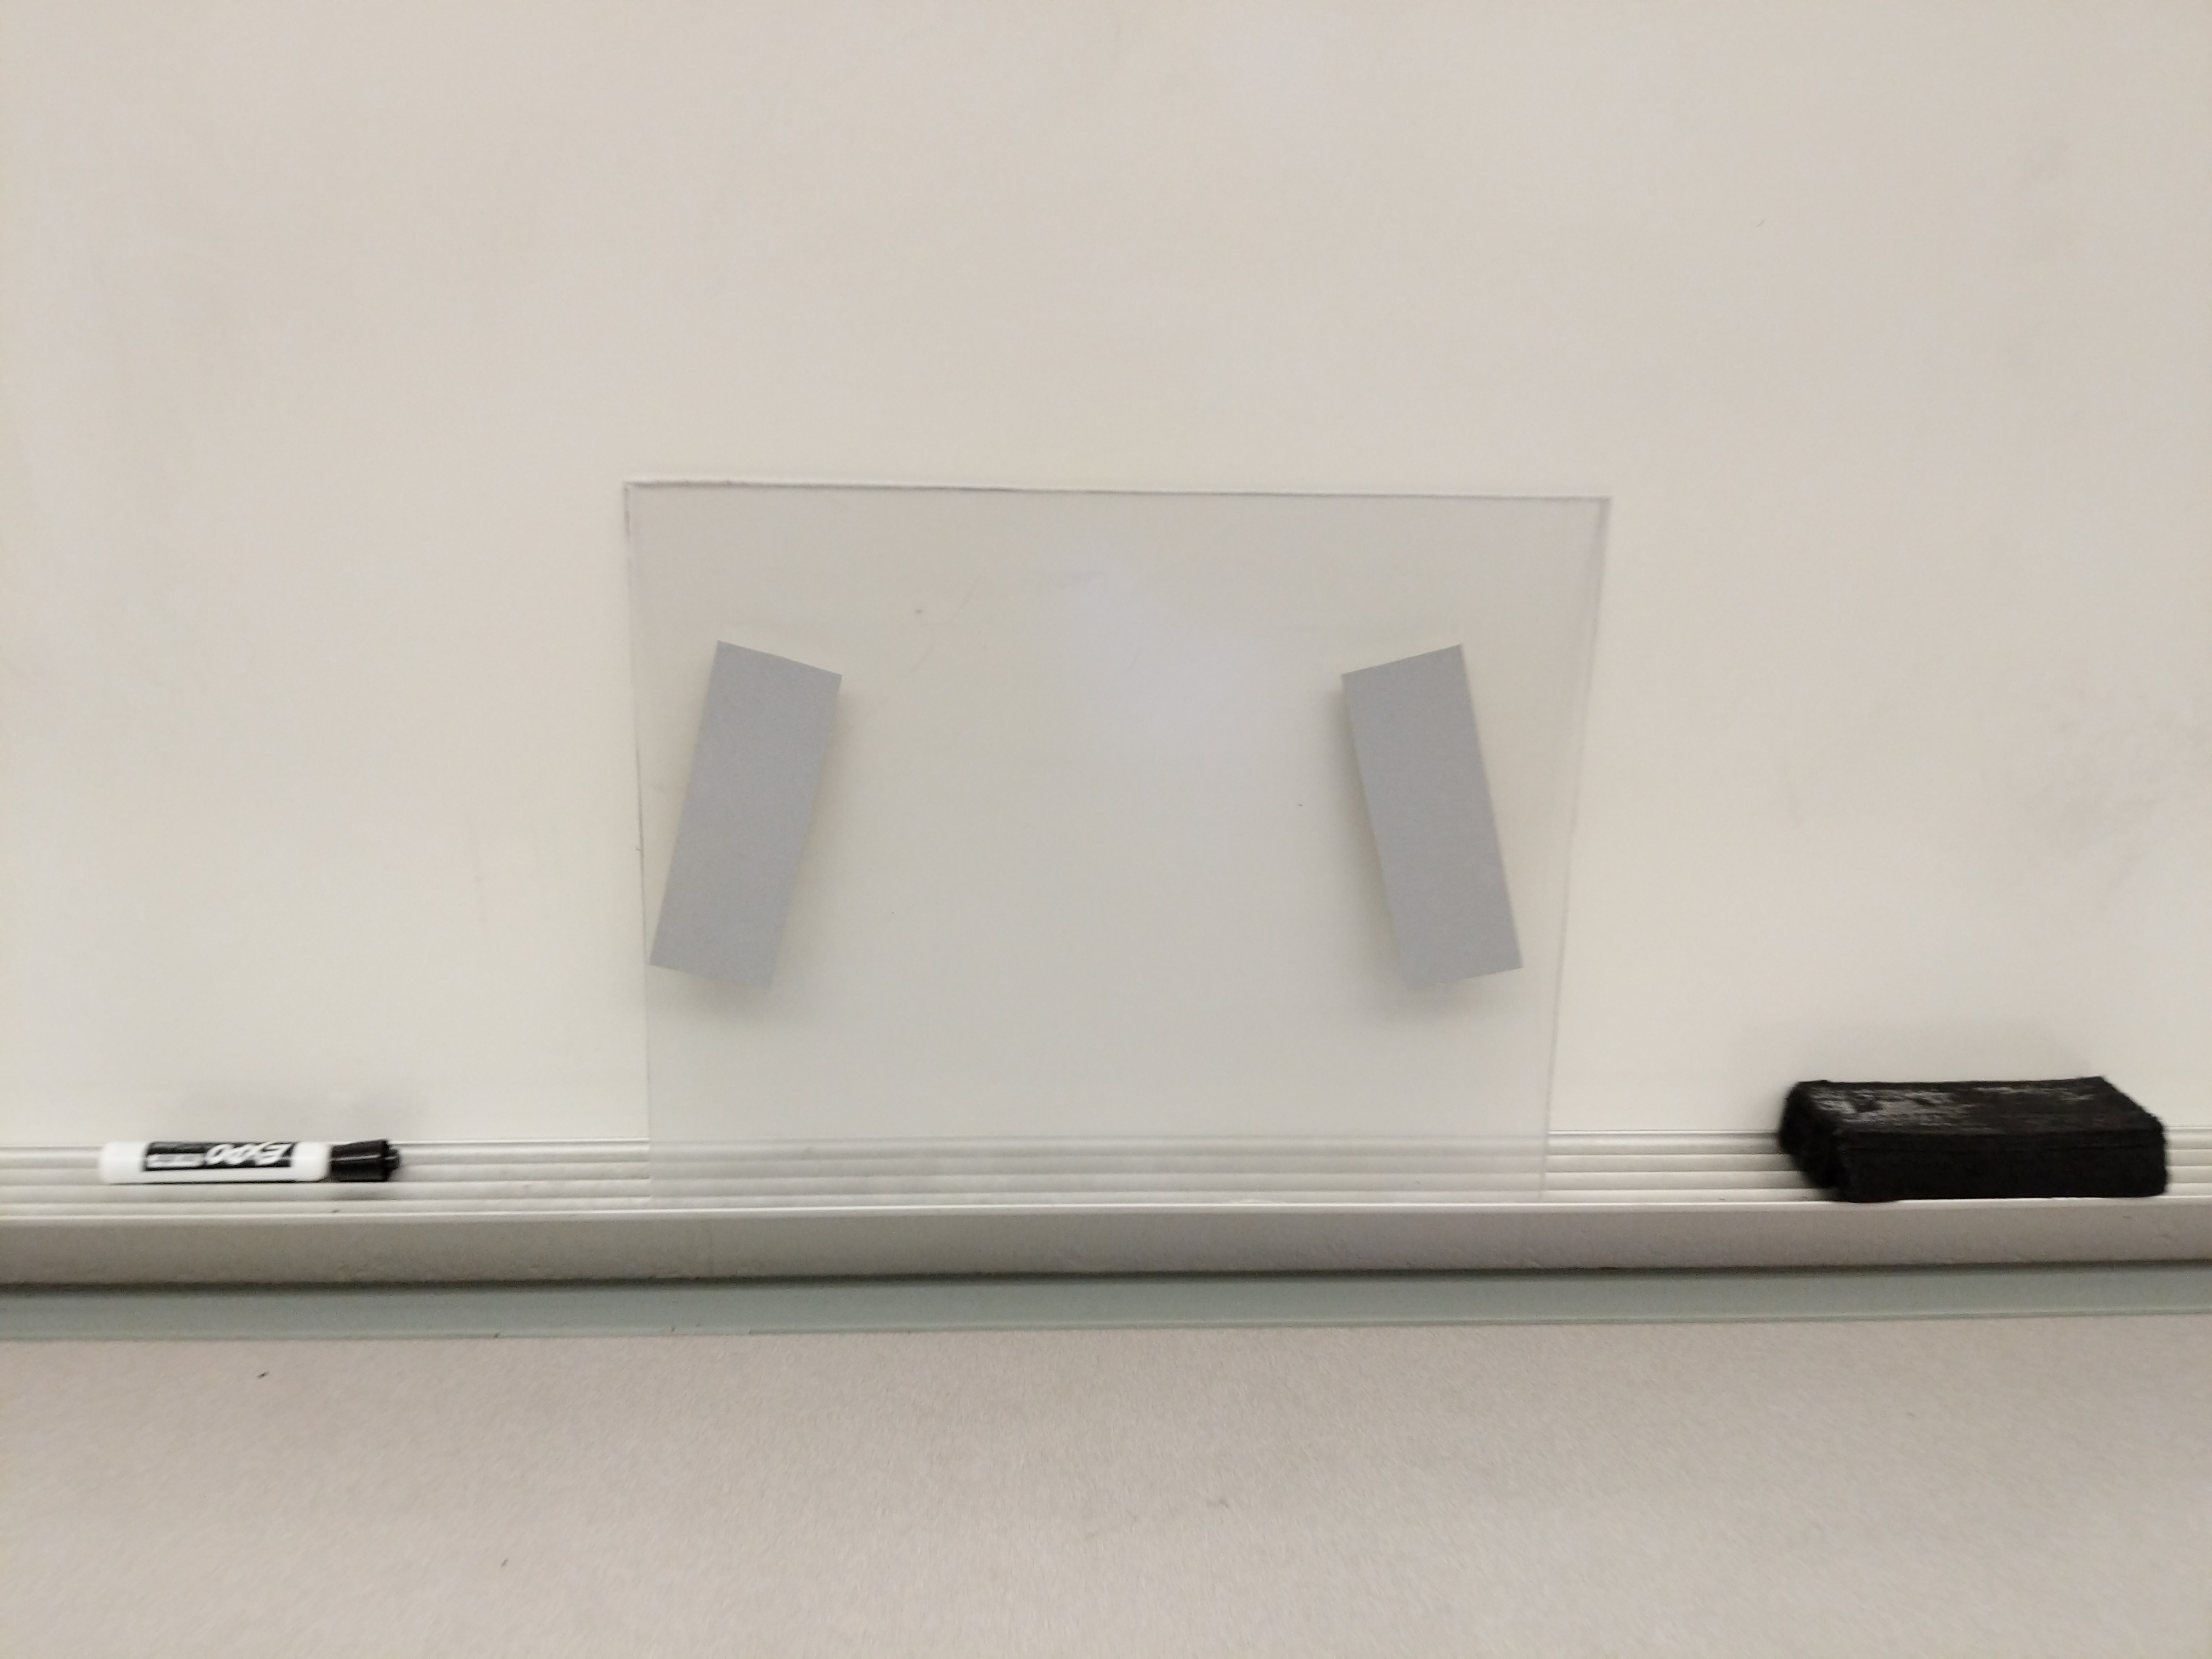vision_target: (632, 624, 1547, 1026)
